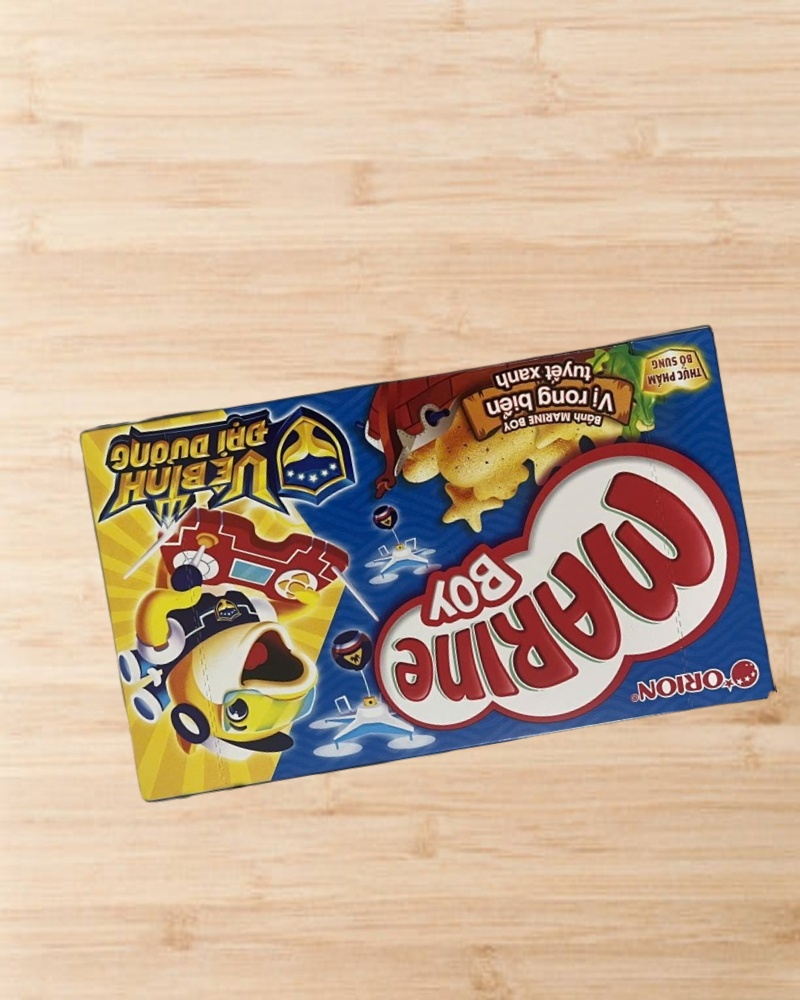Marine: (76, 320, 778, 809)
